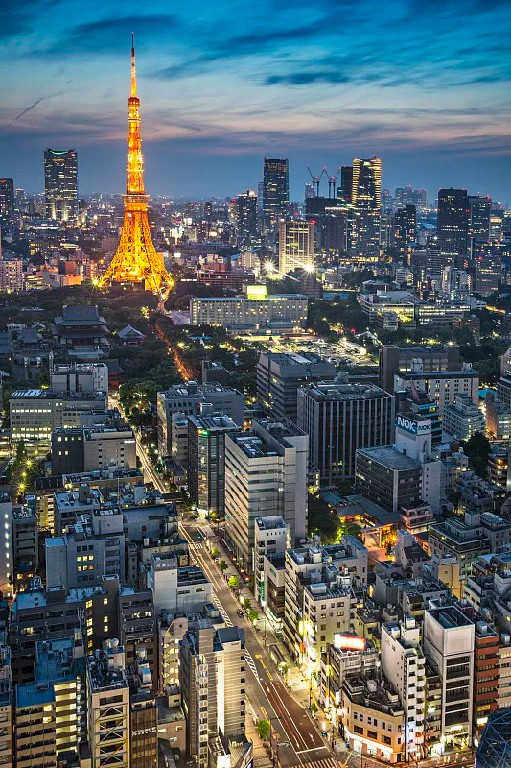Tokyo: (102, 30, 175, 305)
